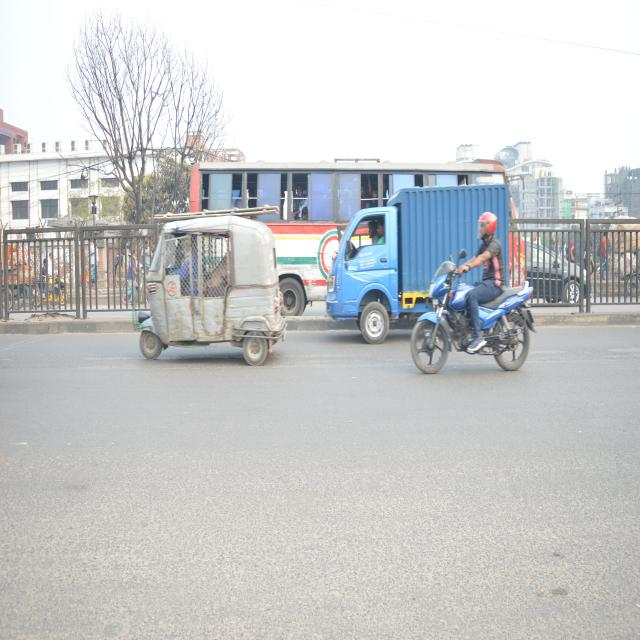bus: (188, 154, 400, 308)
car: (526, 234, 588, 306)
motorbike: (413, 258, 534, 382)
pickup-van: (326, 177, 510, 342)
